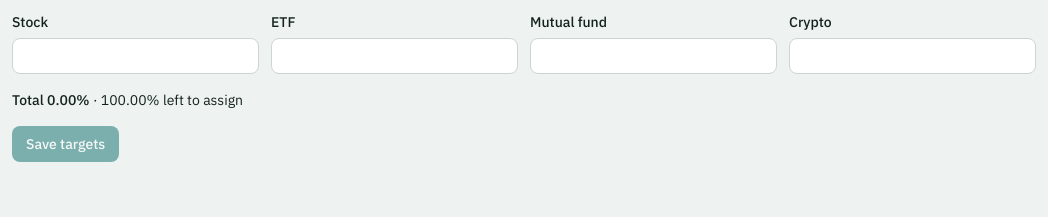
Scenario: TargetEditor › keeps Save disabled for an invalid entry
The image size is (1048, 217).
Type "abc" into the field labelled "ETF".
click(394, 56); type("abc")  # box x1=271 y1=38 x2=518 y2=74
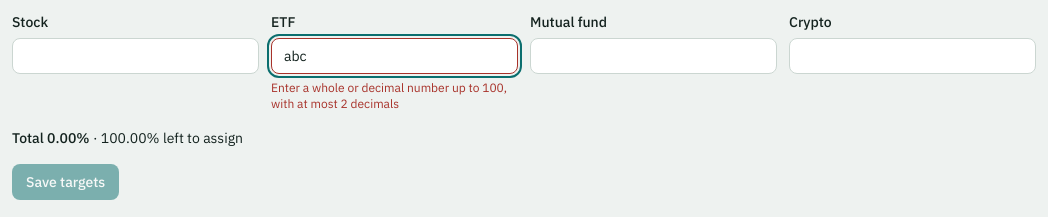
expect the button "Save targets" is disabled: met, box x1=12 y1=164 x2=119 y2=200
expect the text "Enter a whole or decimal number up to 100, with at most 2 decimals" is shown: met, box x1=271 y1=80 x2=518 y2=112
